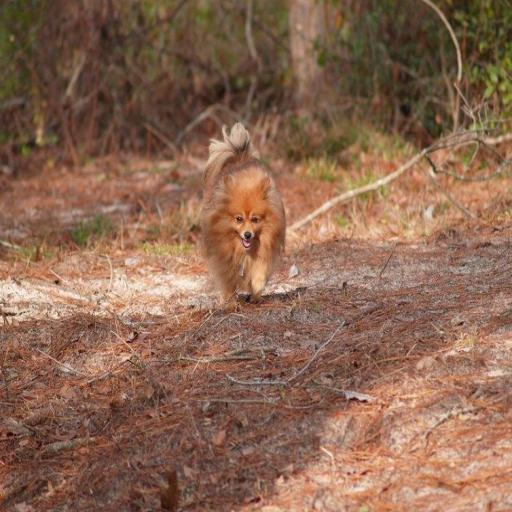dog_face: (218, 179, 276, 252)
